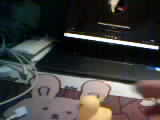duck: (70, 83, 115, 117)
